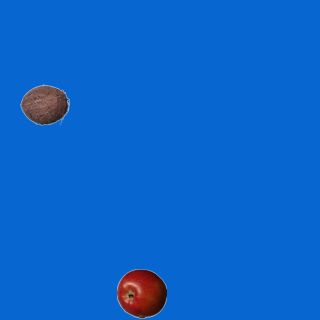Apple Braeburn: (116, 268, 166, 318)
Cocos: (19, 79, 69, 129)
